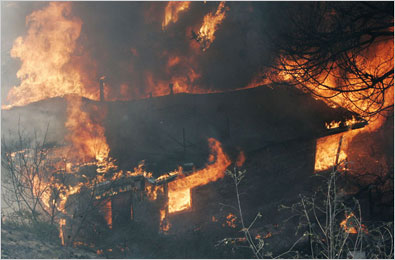fire: (295, 46, 395, 164), (9, 6, 93, 100), (62, 100, 112, 183), (168, 148, 227, 216), (157, 1, 229, 43)
smoke: (3, 107, 49, 252)
